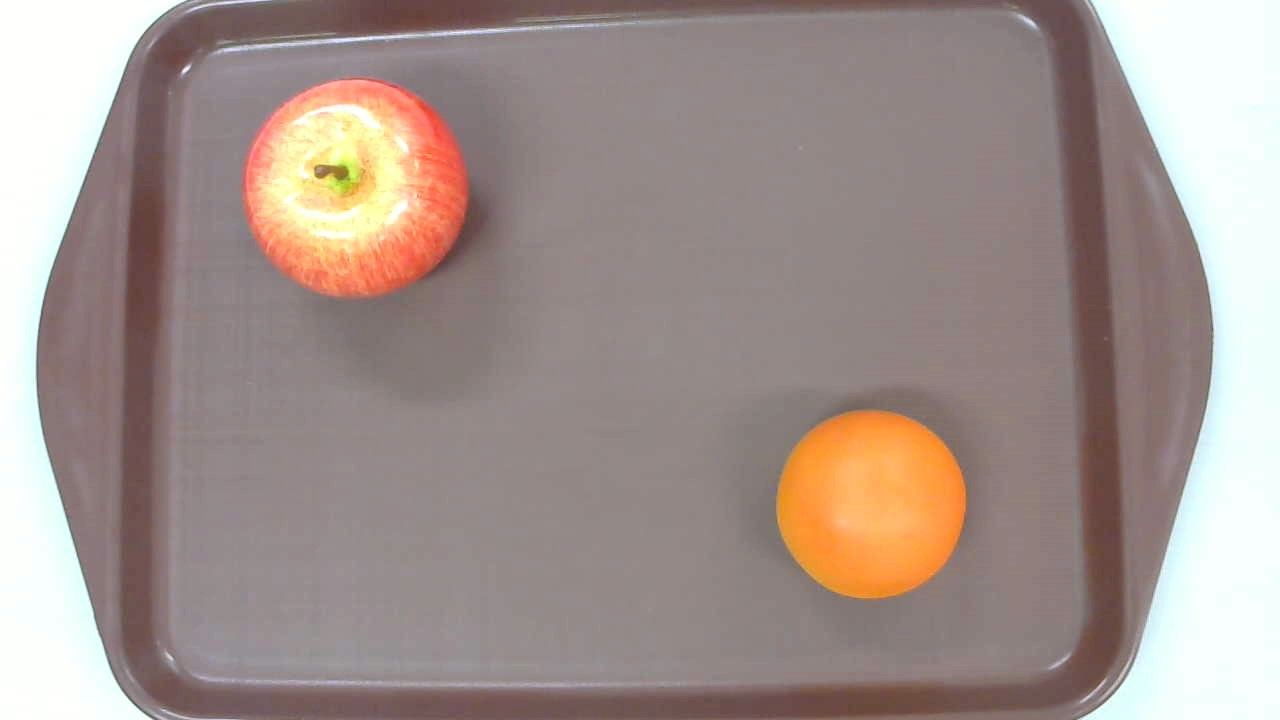bun: (776, 410, 968, 601)
red apple: (239, 77, 469, 299)
